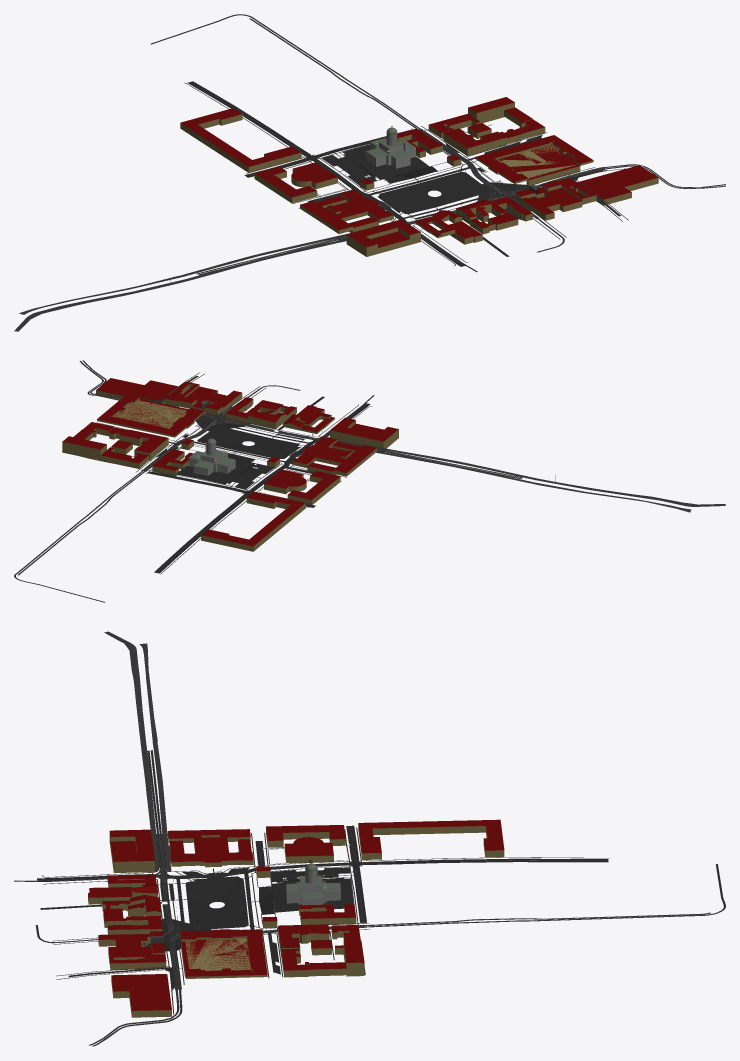
File: senaatintori.obj
The picture shows the model from 3 angles, top to bottom: view 1: azimuth 30°, elevation 25°; view 2: azimuth 150°, elevation 25°; view 3: azimuth 270°, elevation 25°; orthographic projection. The views are drawn at different scales.
Parts seen in each view (by area): view 1: Building604, RoadArea Senaatintori, Building Topelia, Building Helsingin yliopiston päärakennus, RoadArea Aleksanterinkatu, Building631, Building606, Road Unioninkatu, Building Helsingin tuomiokirkko, Building Arppeanum, Building634, Building Remanderin talo (+10 smaller); view 2: Building604, Building Topelia, Building Helsingin yliopiston päärakennus, RoadArea Aleksanterinkatu, RoadArea Senaatintori, Building631, Building606, Road Unioninkatu, Building Helsingin tuomiokirkko, Building634, Building Arppeanum, Building Kansalliskirjasto (+10 smaller); view 3: Building604, Building Topelia, RoadArea Senaatintori, RoadArea Aleksanterinkatu, Building Helsingin yliopiston päärakennus, Building606, Building631, Road Unioninkatu, Building634, Building Helsingin tuomiokirkko, Building Kansalliskirjasto, Building636 (+9 smaller).
Part boxes in pixels (x1,y1,x2,y2): Building604: (475, 135, 593, 185); RoadArea Senaatintori: (379, 172, 489, 214); Building Topelia: (180, 108, 301, 172); Building Helsingin yliopiston päärakennus: (300, 189, 393, 233); RoadArea Aleksanterinkatu: (14, 230, 361, 331); Building631: (346, 219, 420, 256); Building606: (577, 165, 658, 205); Road Unioninkatu: (187, 81, 465, 266); Building Helsingin tuomiokirkko: (365, 127, 415, 168); Building Arppeanum: (443, 128, 506, 156); Building634: (254, 166, 317, 203); Building Remanderin talo: (521, 187, 582, 220); Building604: (97, 394, 204, 437); Building Topelia: (201, 491, 305, 551); Building Helsingin yliopiston päärakennus: (293, 436, 376, 476); RoadArea Aleksanterinkatu: (337, 440, 725, 512); RoadArea Senaatintori: (197, 426, 299, 458); Building631: (330, 417, 398, 448); Building606: (96, 378, 177, 403); Road Unioninkatu: (154, 403, 370, 573); Building Helsingin tuomiokirkko: (188, 438, 235, 475); Building634: (287, 471, 340, 504); Building Arppeanum: (122, 429, 168, 460); Building Kansalliskirjasto: (264, 469, 306, 494); Building604: (180, 929, 267, 978); Building Topelia: (358, 819, 504, 859); RoadArea Senaatintori: (185, 878, 248, 930); RoadArea Aleksanterinkatu: (104, 631, 171, 872); Building Helsingin yliopiston päärakennus: (167, 829, 253, 867); Building606: (111, 974, 171, 1017); Building631: (109, 829, 154, 872); Road Unioninkatu: (37, 858, 608, 880); Building634: (266, 825, 345, 847); Building Helsingin tuomiokirkko: (286, 872, 340, 905); Building Kansalliskirjasto: (284, 837, 333, 863); Building636: (299, 904, 356, 924).
Size of the model in its own units: 936 by 64.63 by 719.
